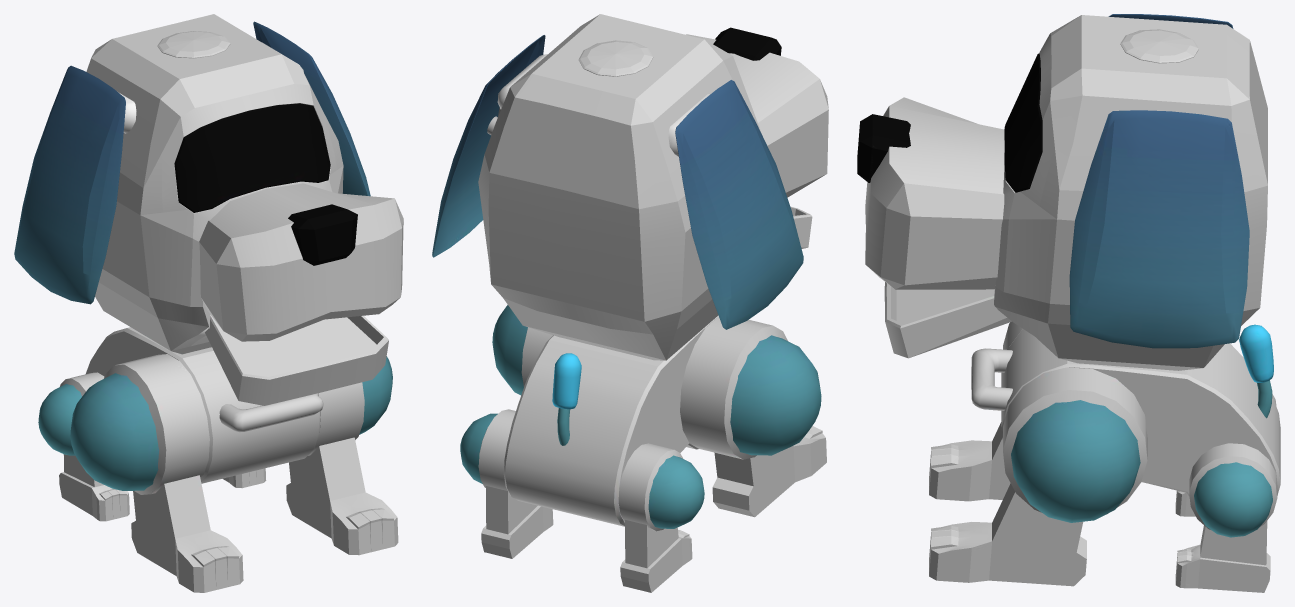
File: Pooch.glb
3 renders of one model, left to right at view 1: azimuth 30°, elevation 25°; view 2: azimuth 150°, elevation 25°; view 3: azimuth 270°, elevation 25°, orthographic. The views are drawn at different scales.
Parts seen in each view (by area): view 1: Pooch; view 2: Pooch; view 3: Pooch.
Part boxes in pixels (x1,y1,x2,y2): Pooch: (14, 14, 403, 592); Pooch: (432, 14, 828, 592); Pooch: (857, 14, 1280, 592).
Bounding box in the file's own units: 0.4824 × 0.709 × 0.5341.
1 material, 1 textured.
